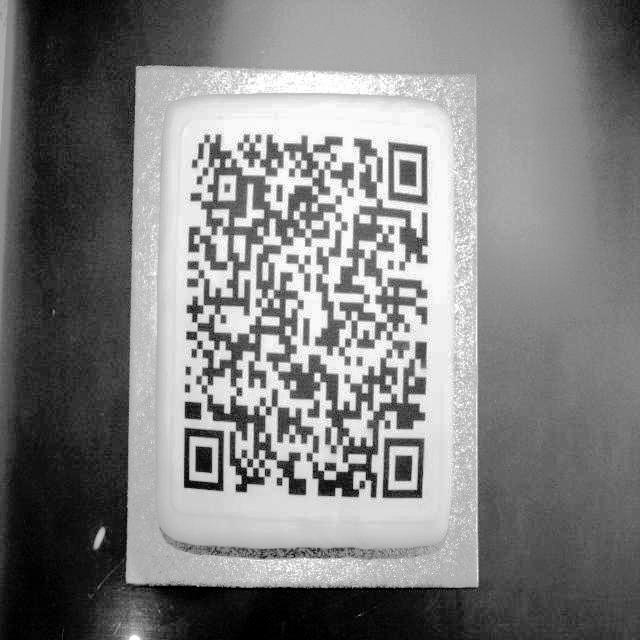qr_code: (184, 134, 427, 498)
